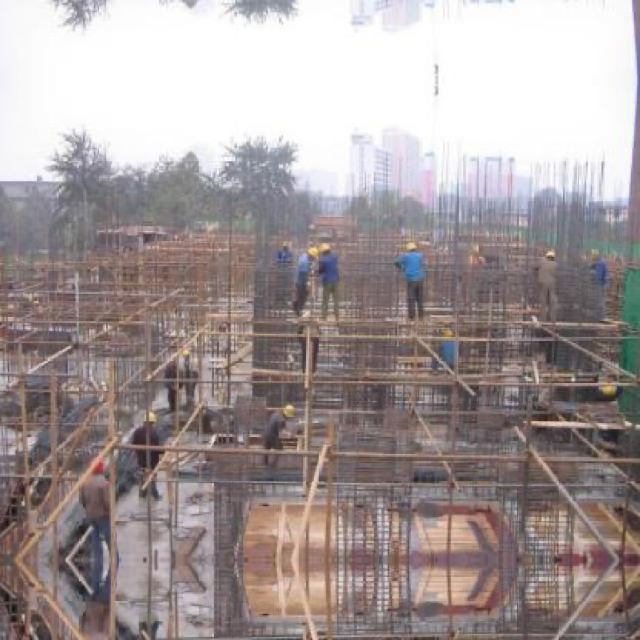helmet: (88, 452, 112, 477), (300, 243, 322, 262), (278, 402, 300, 420), (320, 240, 338, 260), (140, 409, 160, 426), (546, 249, 562, 266), (402, 240, 420, 255)
